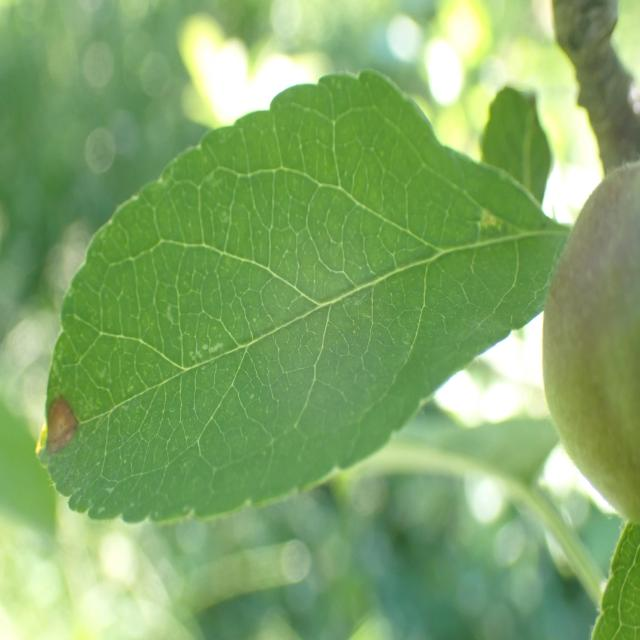Black Rot: (27, 383, 89, 472)
